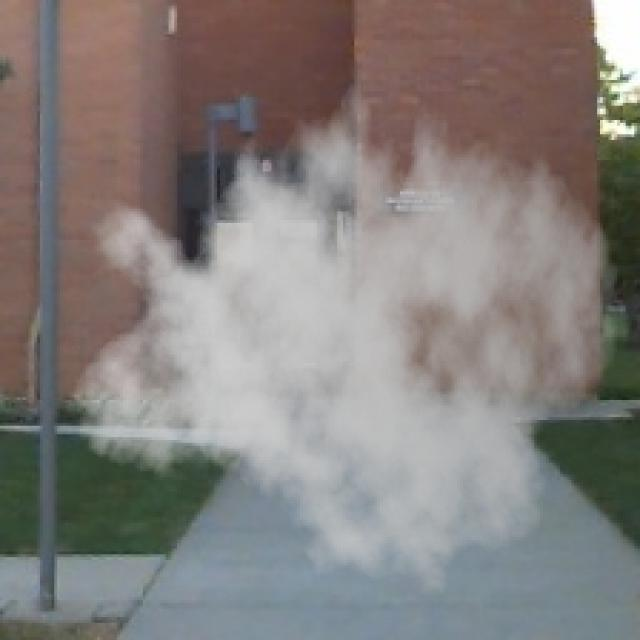smoke: (71, 57, 620, 609)
